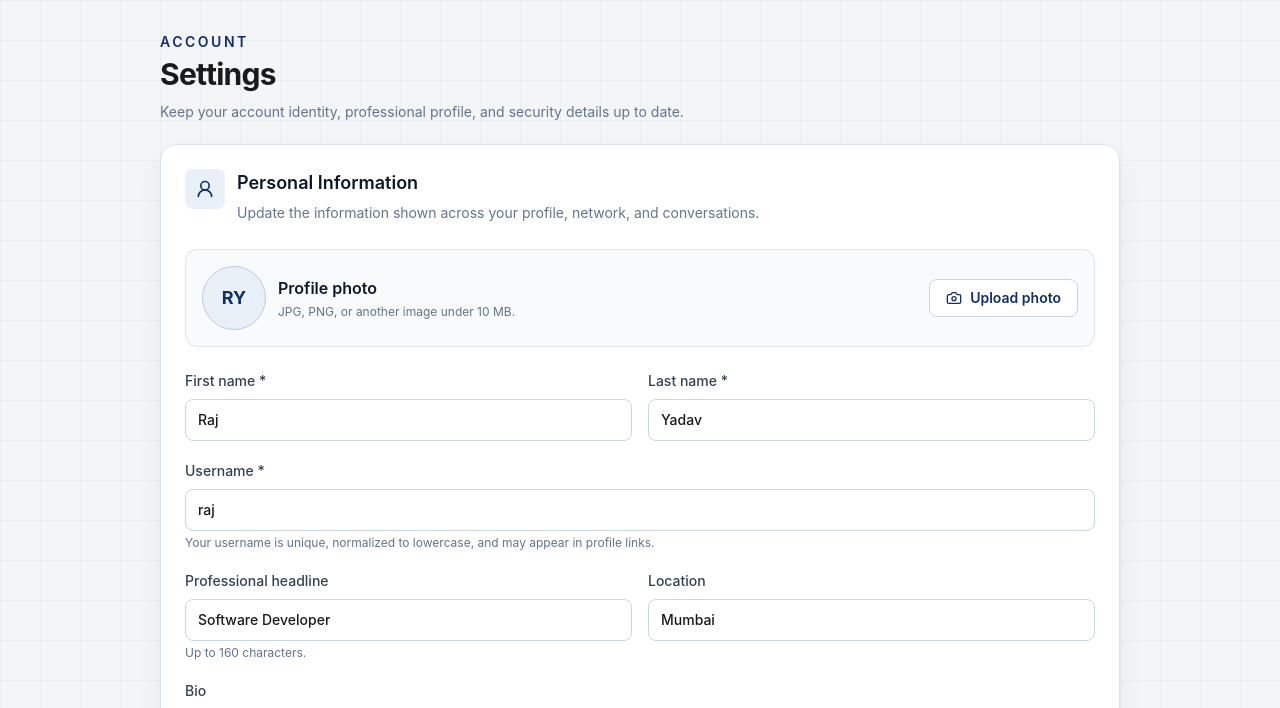
Test: AccountSettingsPage › shows duplicate username validation from the backend
Expected: the heading "Settings" is shown, [160,56,276,92]
Replace the text in the field labelled "Username" with "existing_user" at (640, 510), box [185,489,1095,531]
(page scrolled)
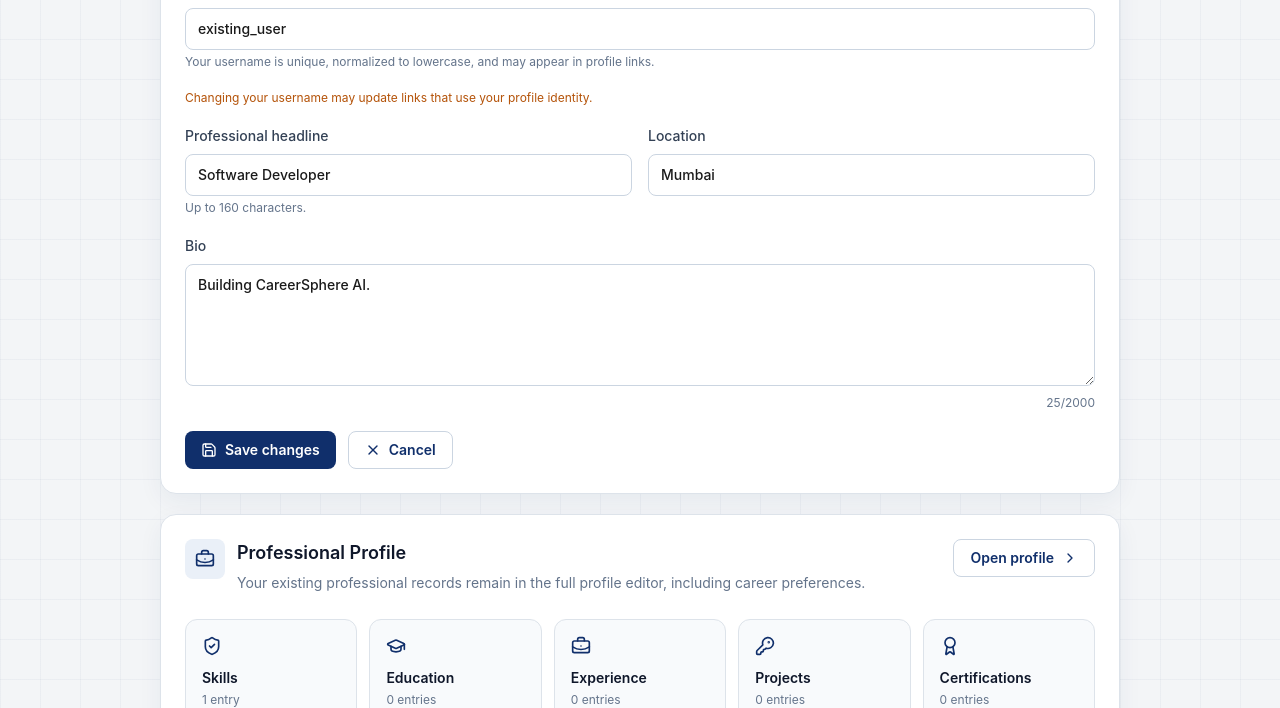
Click the button "Save changes" at (260, 450), box [185,431,336,469]
(page scrolled)
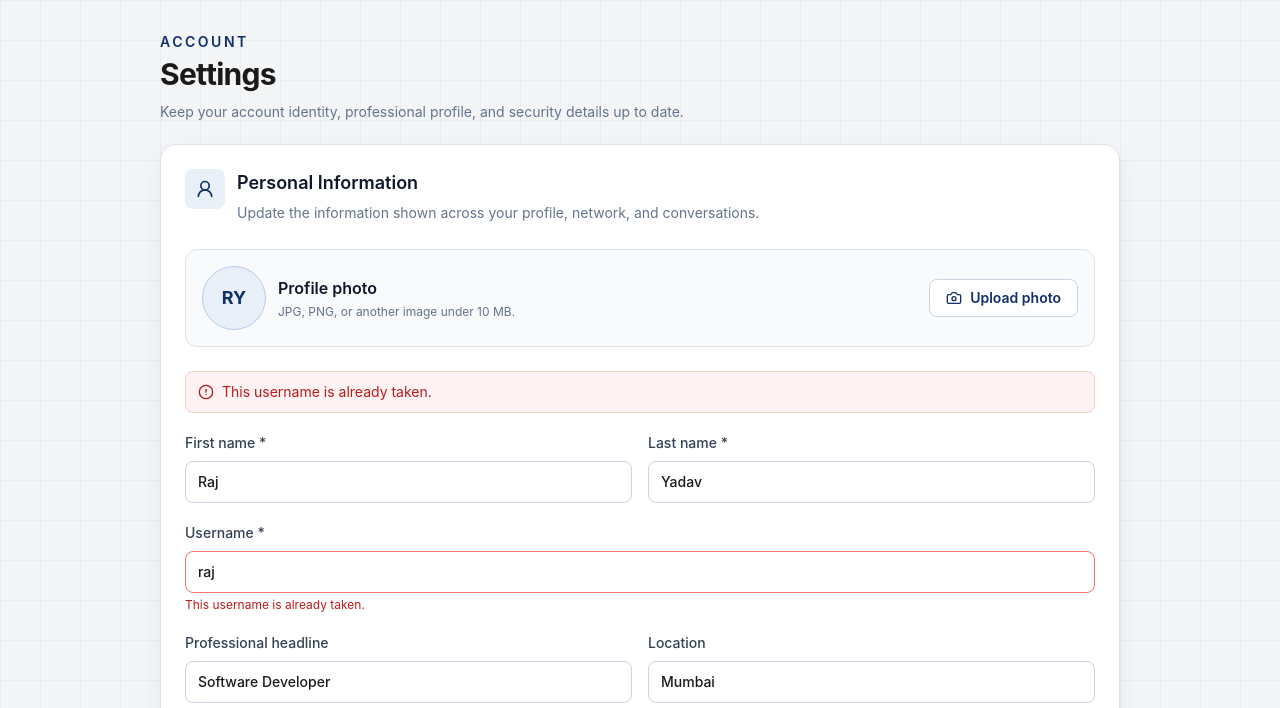
Expected: the 1st text "This username is already taken." is shown, [222,382,432,402]
